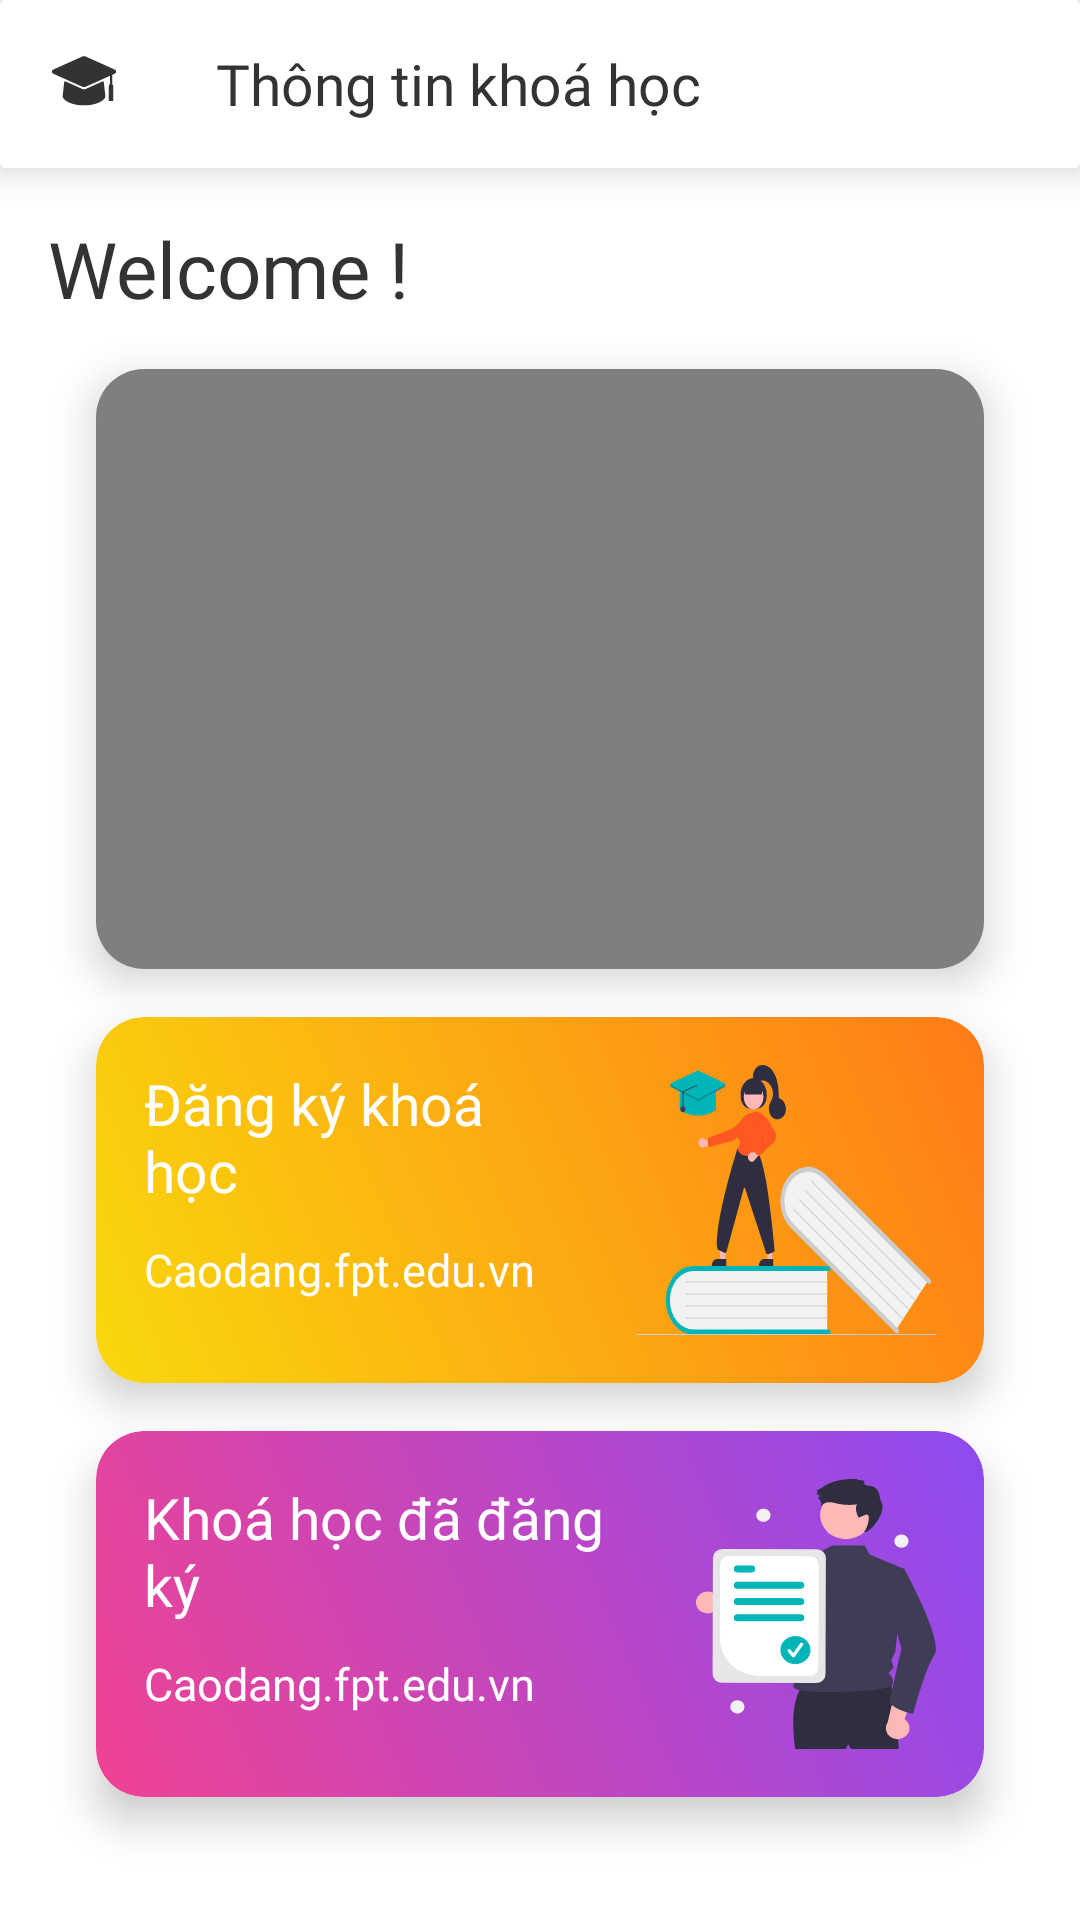

Locate icon controls on the screen. Image size 1080w x 1920h, boxes as (x1, y1, x2, y2).
da dang ky: (696, 1479, 936, 1749)
